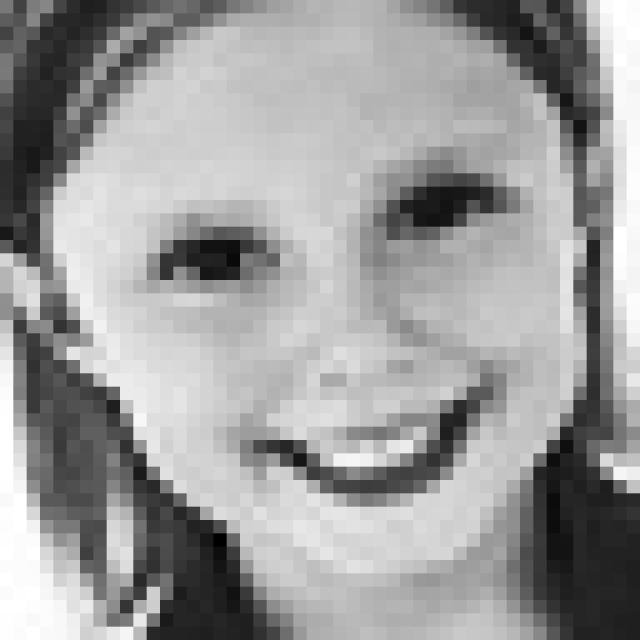happy: (138, 131, 539, 527)
